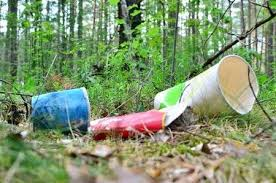cup: (155, 54, 259, 119), (31, 85, 93, 132)
